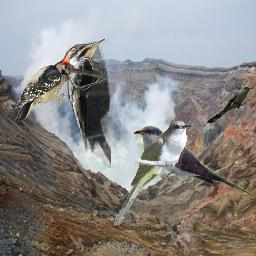Cuckoo: (132, 126, 254, 199), (113, 120, 191, 226), (206, 86, 254, 123)
Woodpecker: (59, 38, 111, 171), (9, 59, 74, 124)
